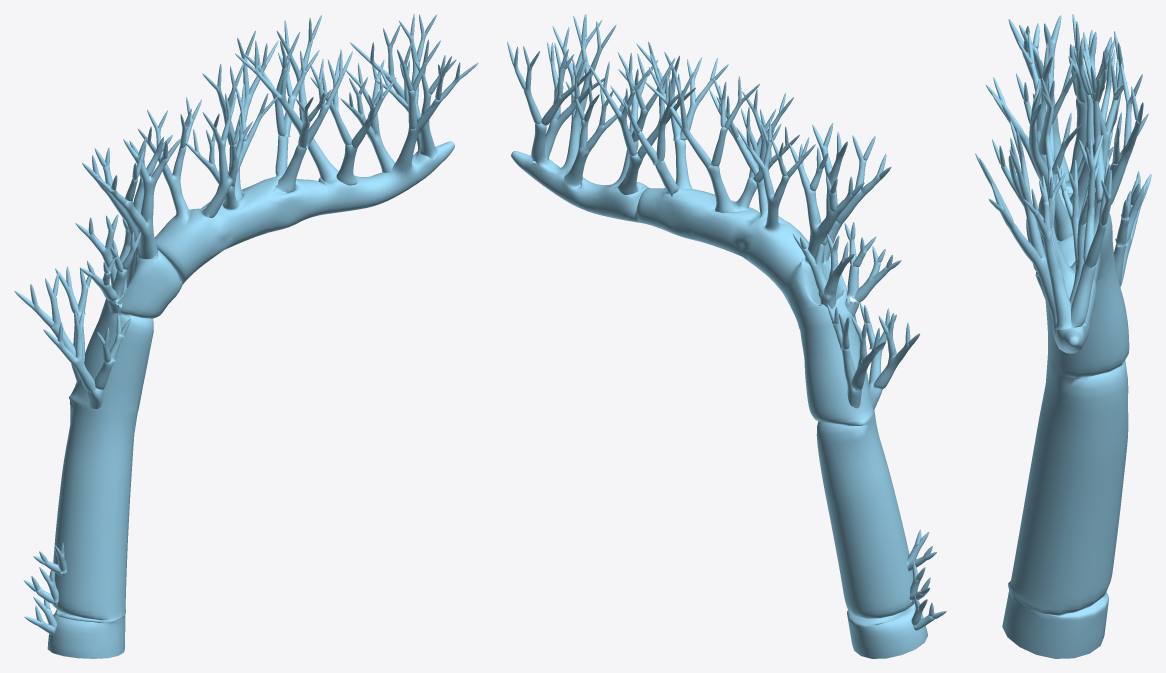
File: tree.glb
The picture shows the model from 3 angles, left to right: view 1: azimuth 30°, elevation 25°; view 2: azimuth 150°, elevation 25°; view 3: azimuth 270°, elevation 25°; orthographic projection. The views are drawn at different scales.
Visible parts, largest first — view 1: CrystalCoral; view 2: CrystalCoral; view 3: CrystalCoral.
Boxes of the visible parts, left/top/right/bottom form: CrystalCoral: left=14, top=14, right=478, bottom=658; CrystalCoral: left=507, top=14, right=946, bottom=658; CrystalCoral: left=975, top=14, right=1151, bottom=658.
Size of the model in its own units: 8.31 by 10.18 by 2.26.
